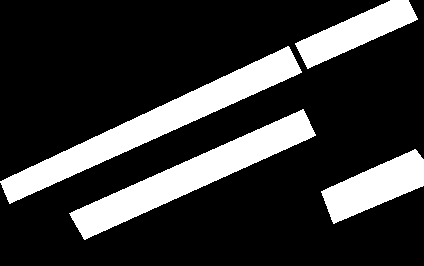parkingspot: (0, 46, 301, 203), (69, 109, 315, 239), (295, 0, 417, 68), (321, 149, 424, 223)
